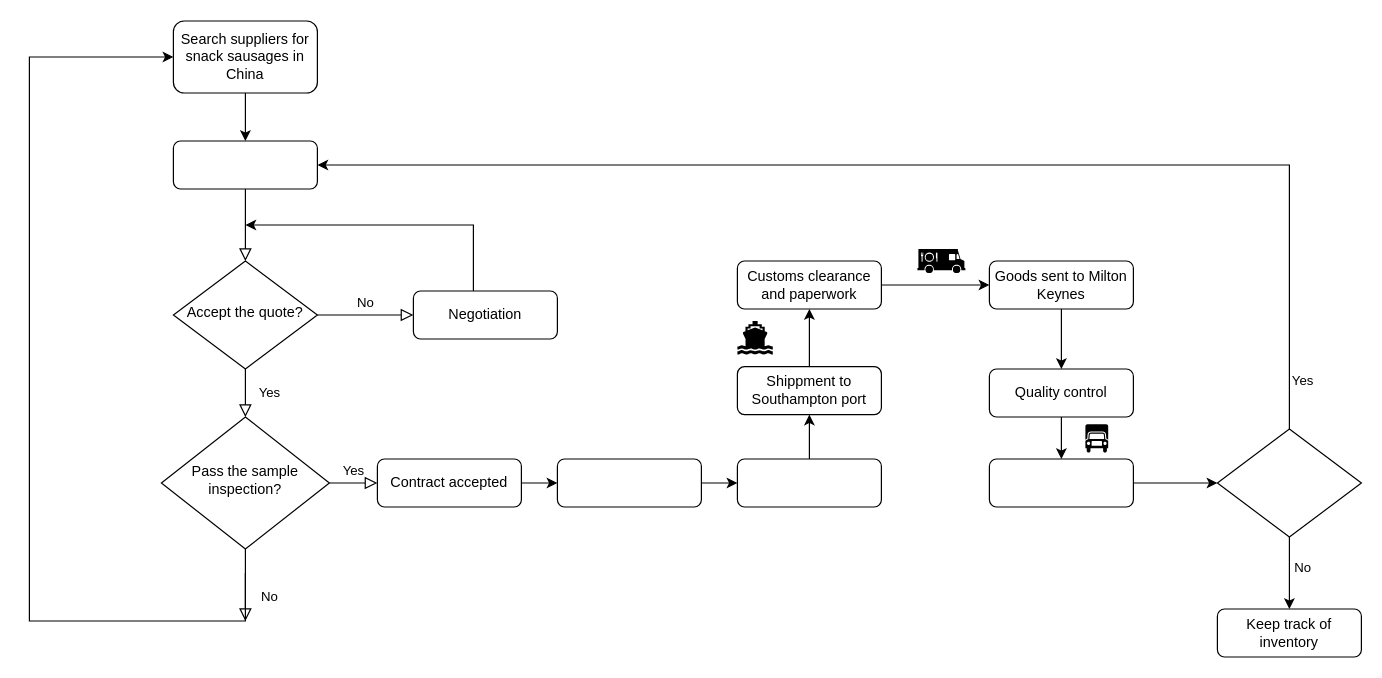
Image size: 1382x678. Some labels were removed from this diagram. Here are the shapes that lost their labels. From the top down, the centre of each, then its label:
(244,164): Finalise a prospect supplier
(628,482): Informing warehouse
(808,482): Discuss shipping details
(1060,482): Division of cartons across 550 stores
(1288,482): Low inventory?
